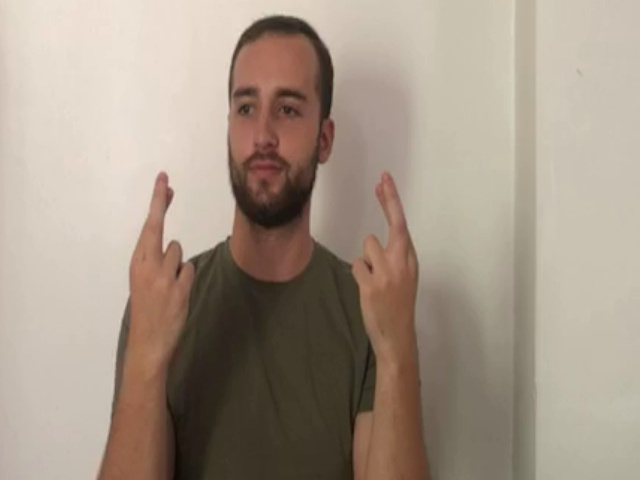Nadevanja: (122, 168, 429, 384)
